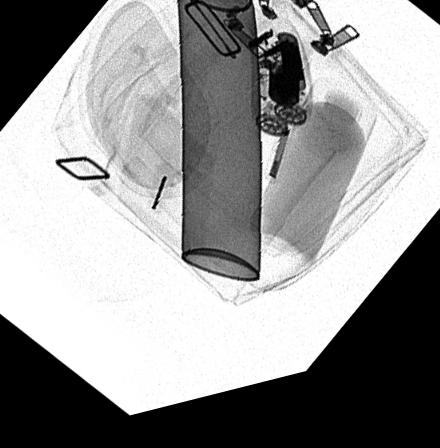Sprayer: (176, 0, 260, 294)
